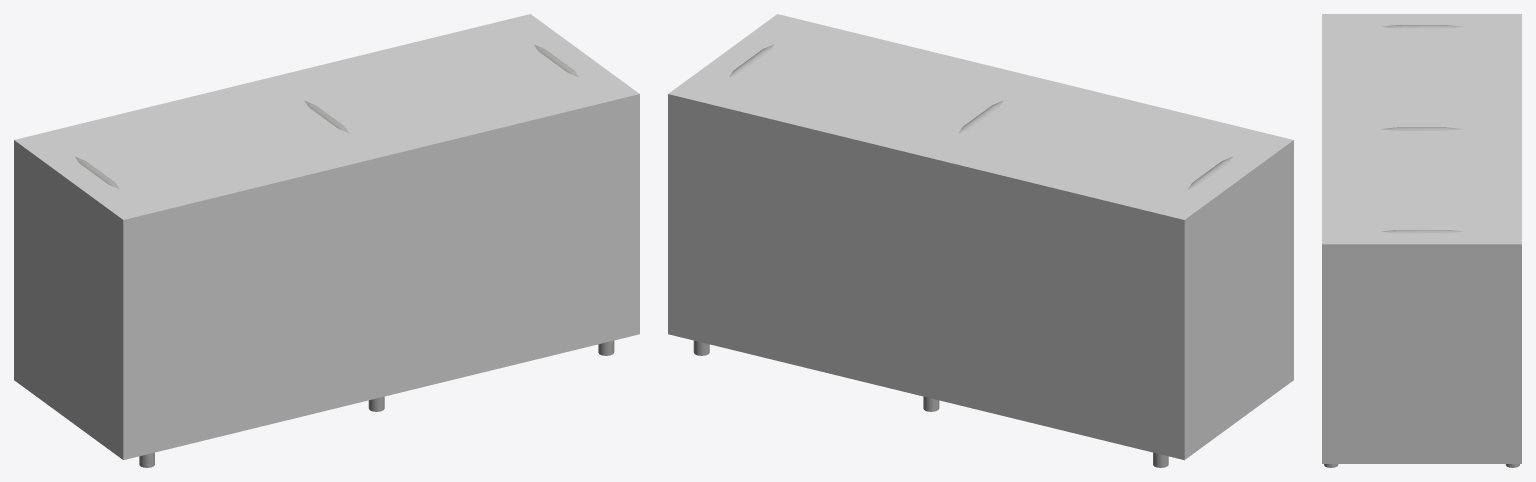
Rendered from p8_bikerack.glb.
The picture shows the model from 3 angles, left to right: view 1: azimuth 30°, elevation 25°; view 2: azimuth 150°, elevation 25°; view 3: azimuth 270°, elevation 25°; orthographic projection. The views are drawn at different scales.
Parts seen in each view (by area): view 1: p8_bikerack_COL, p8_bikerack_LOD0; view 2: p8_bikerack_COL, p8_bikerack_LOD0; view 3: p8_bikerack_COL, p8_bikerack_LOD0.
Part boxes in pixels (x1,y1,x2,y2): p8_bikerack_COL: (14,14,639,460); p8_bikerack_LOD0: (75,44,614,467); p8_bikerack_COL: (668,14,1293,460); p8_bikerack_LOD0: (693,44,1232,467); p8_bikerack_COL: (1322,14,1521,463); p8_bikerack_LOD0: (1324,25,1519,467).
Size of what is drawn, in the model's own units: 1.8 by 0.854 by 0.66.
Materials: 1 (1 with a texture image).
